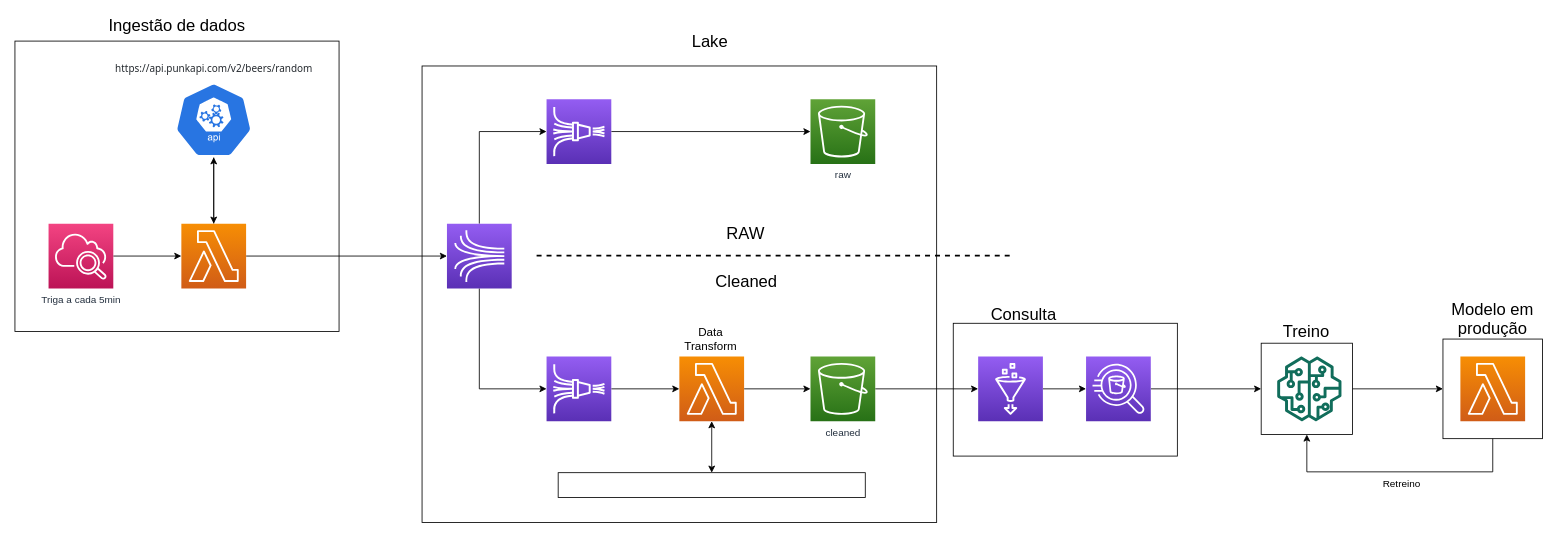
The diagram is 1557 pixels wide and 537 high, and some of its shapes have lost their labels. The shapes that lost their labels are listed below. From the top down, each one's centre as x and y in pixels, then its label:
the point at 213,255: Pega dados de cerveja
the point at 711,485: id , name , abv , ibu , target_fg , target_og , ebc , srm, ph
